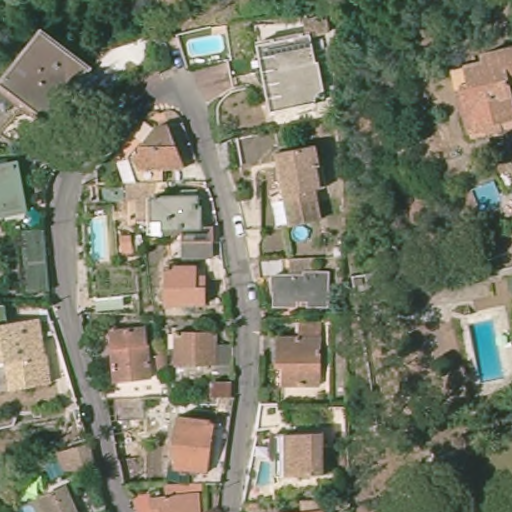pool: (468, 315, 504, 386), (87, 212, 113, 262), (185, 35, 229, 58), (472, 179, 501, 211), (23, 208, 47, 230), (256, 458, 273, 489), (289, 222, 311, 244)
